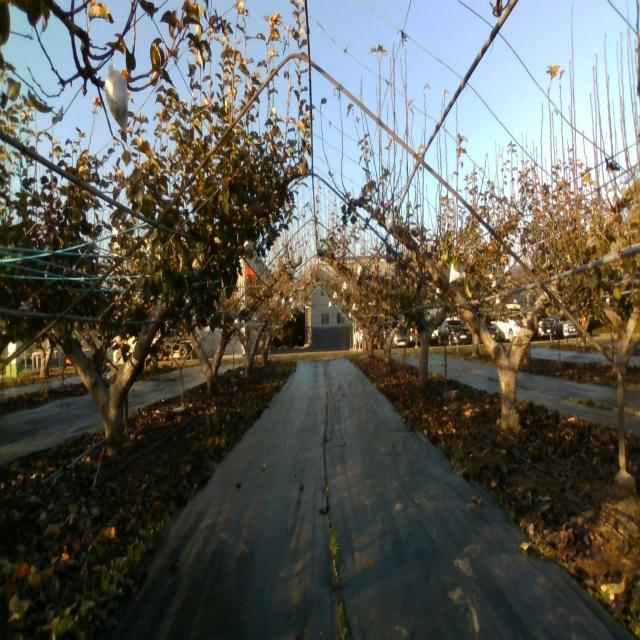pearbags: (105, 65, 128, 134), (449, 262, 466, 284), (385, 214, 395, 236), (243, 234, 254, 253)
